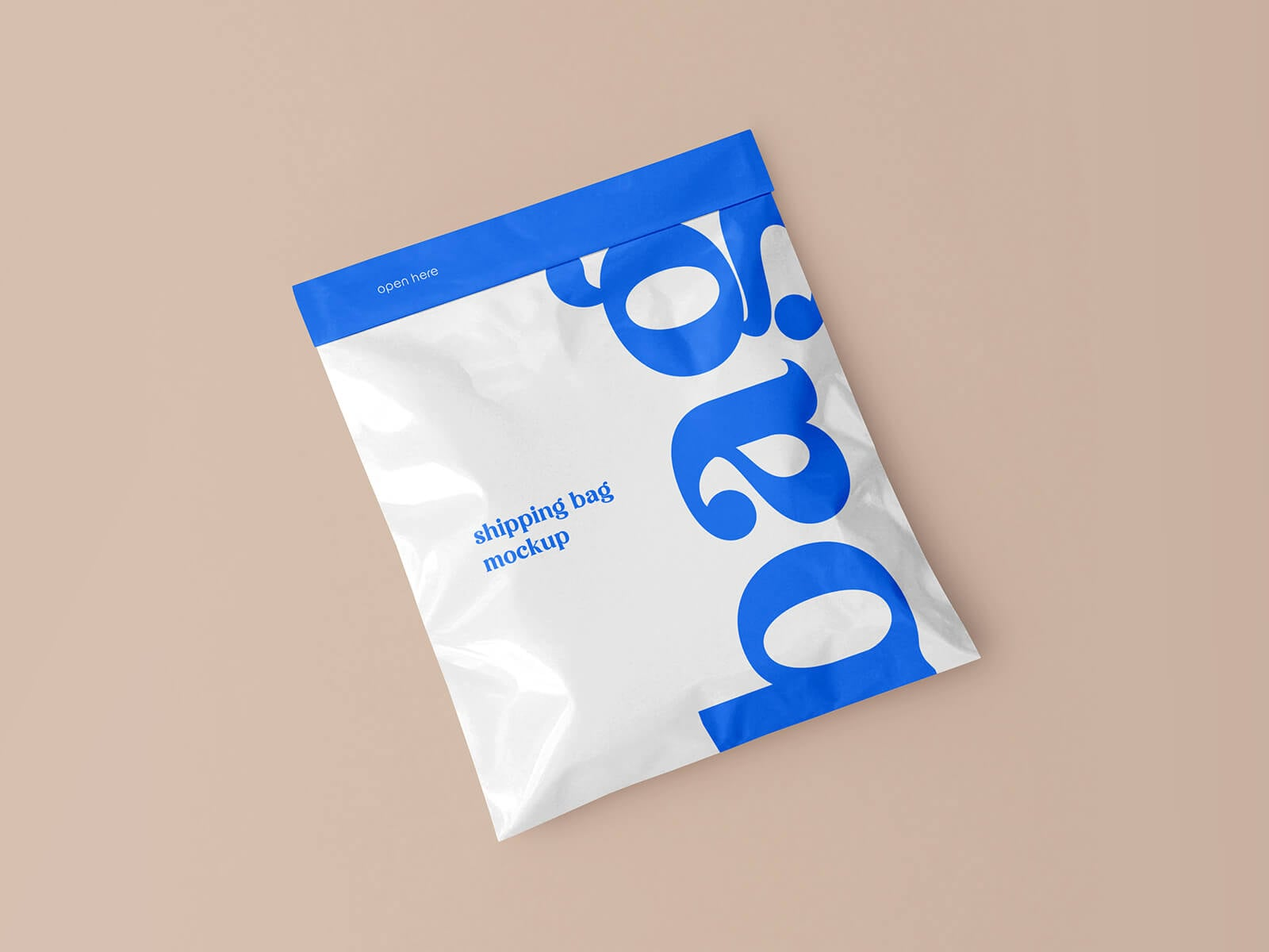Parcel: (294, 165, 978, 837)
